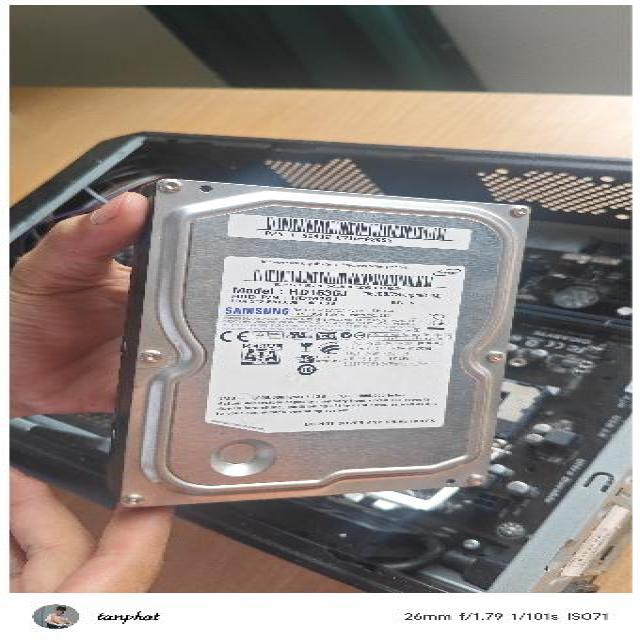DISK: (101, 172, 532, 507)
